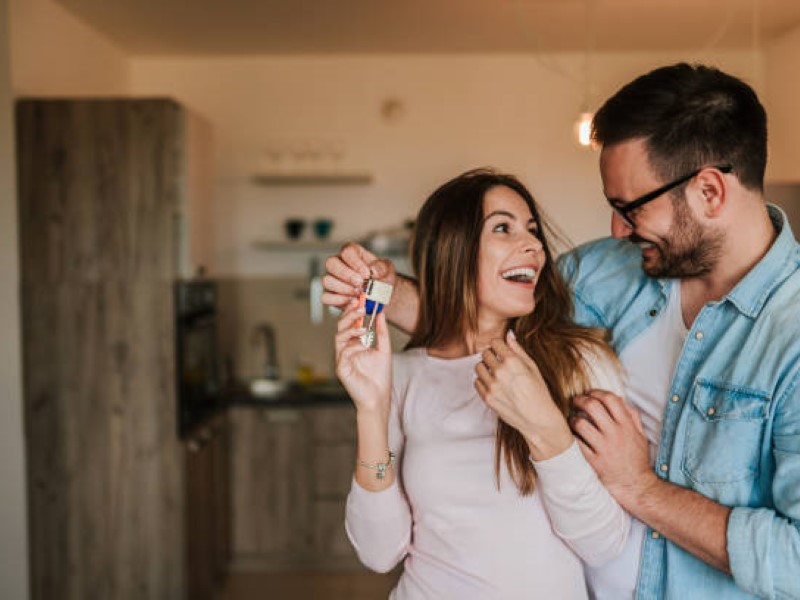key: (358, 275, 394, 348)
